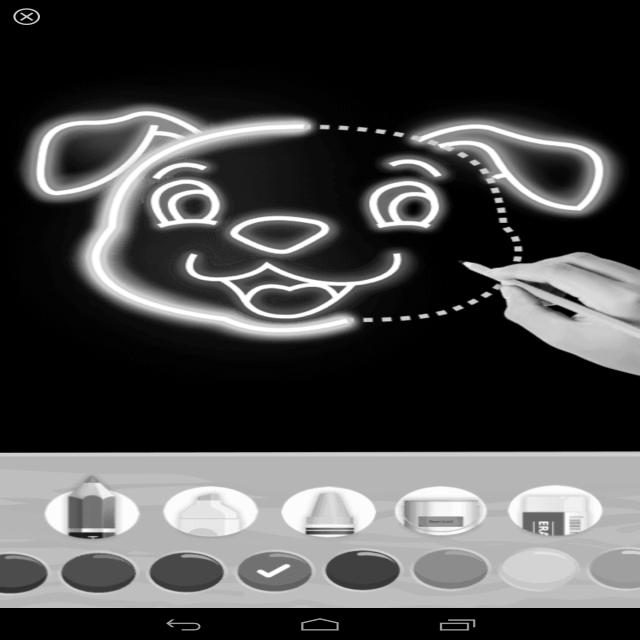ImageButton: (10, 7, 44, 28)
ImageView: (22, 104, 428, 357), (455, 244, 628, 376), (41, 480, 138, 537), (278, 484, 380, 538), (506, 483, 600, 537), (170, 483, 258, 534), (402, 485, 488, 537), (319, 550, 404, 589), (412, 548, 489, 588), (152, 554, 220, 590), (64, 555, 130, 590)
